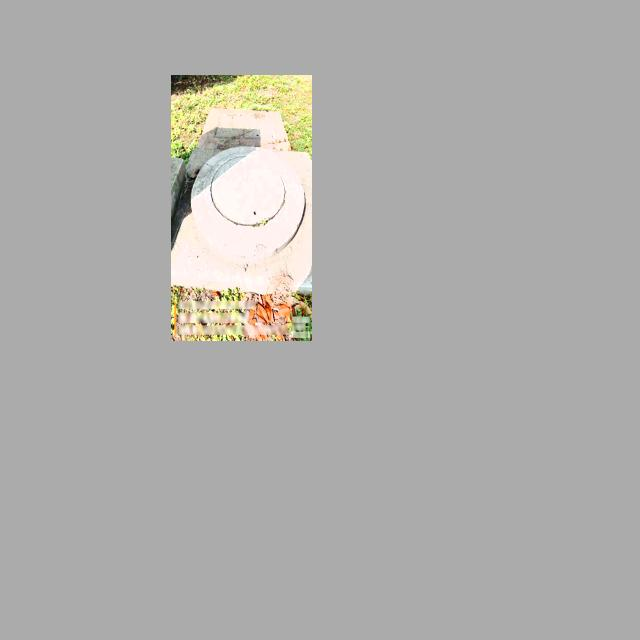good: (204, 152, 290, 229), (214, 113, 274, 140)
